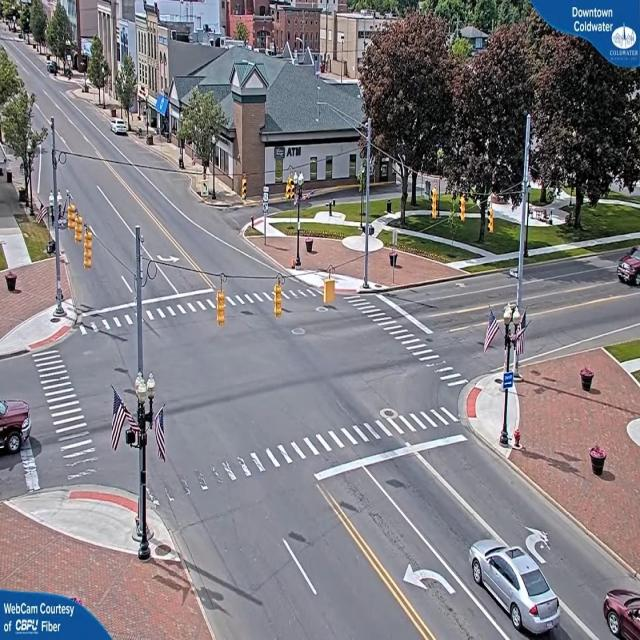car: (471, 542, 562, 636), (602, 587, 640, 640), (618, 254, 640, 286), (112, 121, 130, 138)
